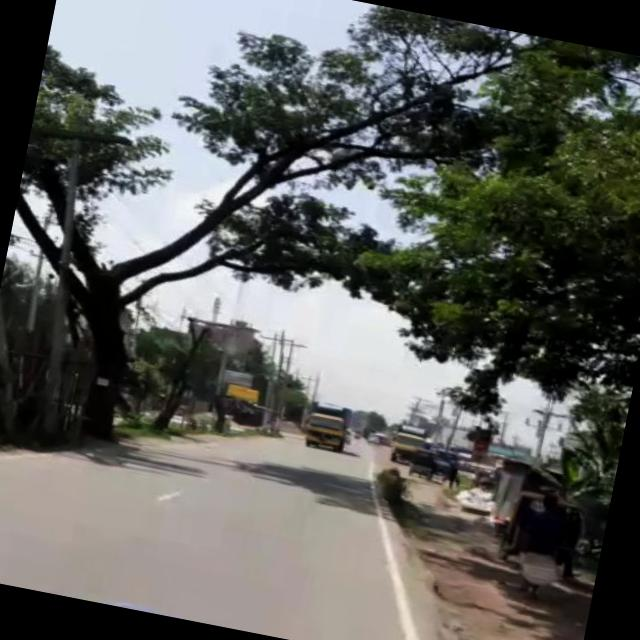truck: (308, 399, 357, 450), (392, 421, 429, 461)
